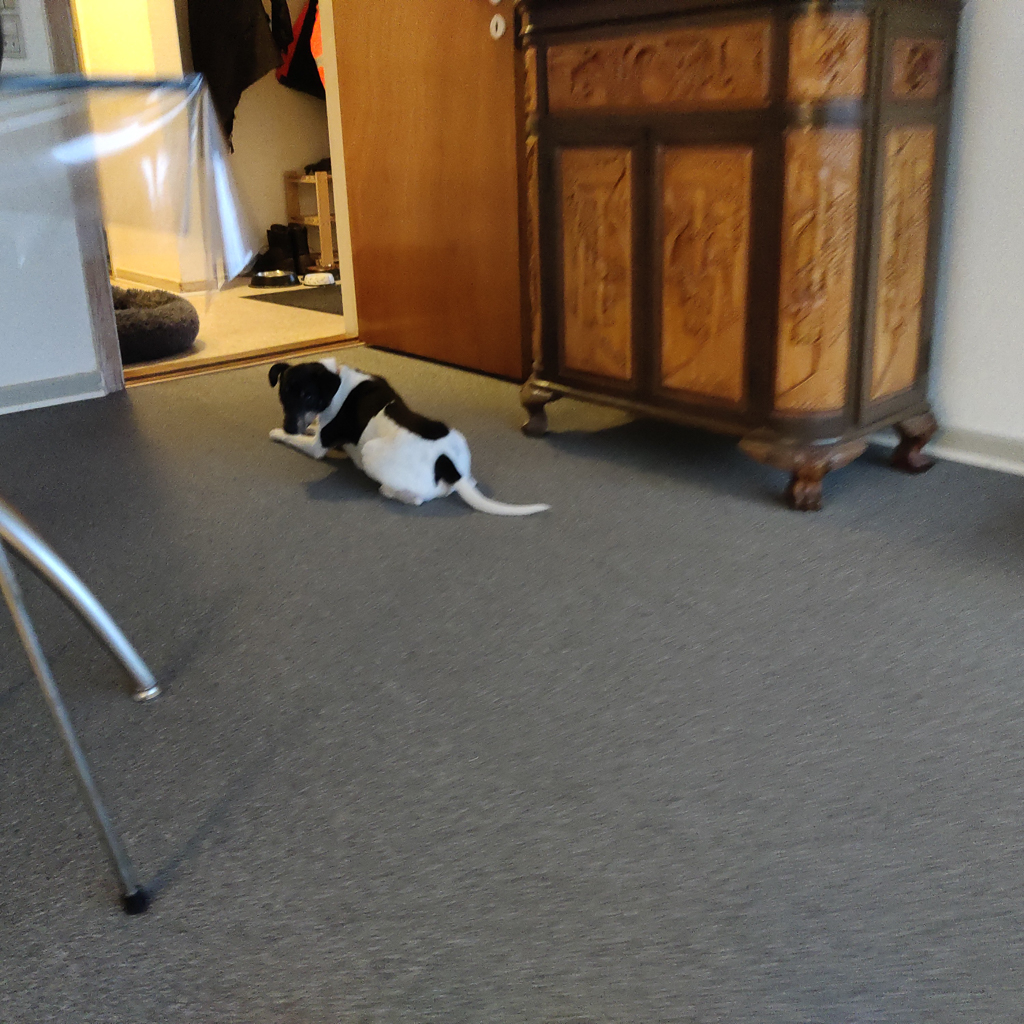Dog: (251, 350, 574, 529)
